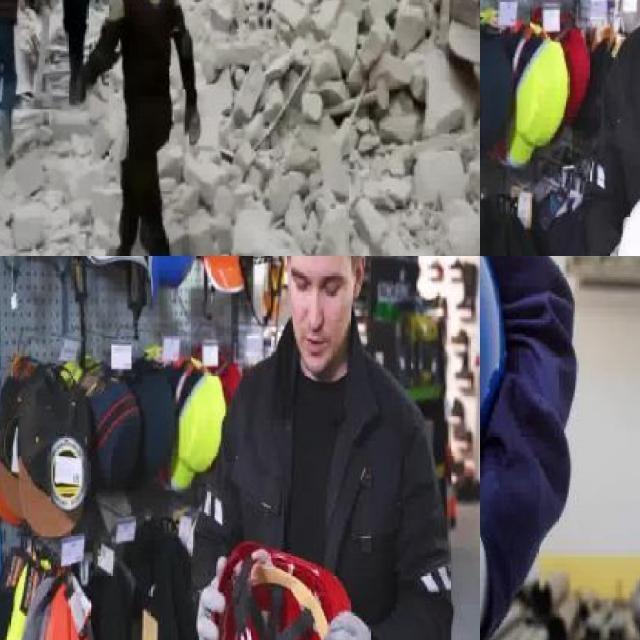apron: (196, 554, 228, 640), (322, 609, 373, 640)
